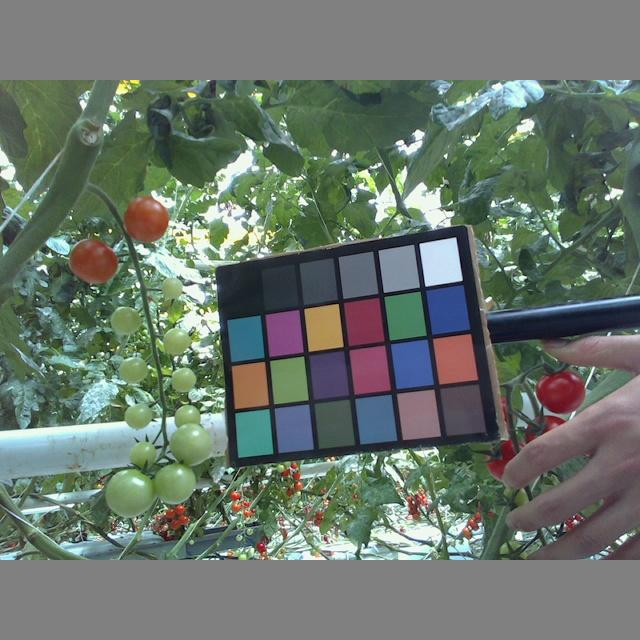green: (105, 465, 156, 518), (170, 421, 216, 467), (152, 460, 197, 506), (173, 403, 203, 431), (123, 402, 152, 430), (118, 354, 147, 381), (170, 363, 197, 392), (163, 326, 190, 354), (131, 440, 156, 468), (159, 274, 183, 299)
pink: (65, 239, 118, 285), (123, 197, 169, 244), (111, 307, 143, 335)
red: (534, 369, 585, 410)
